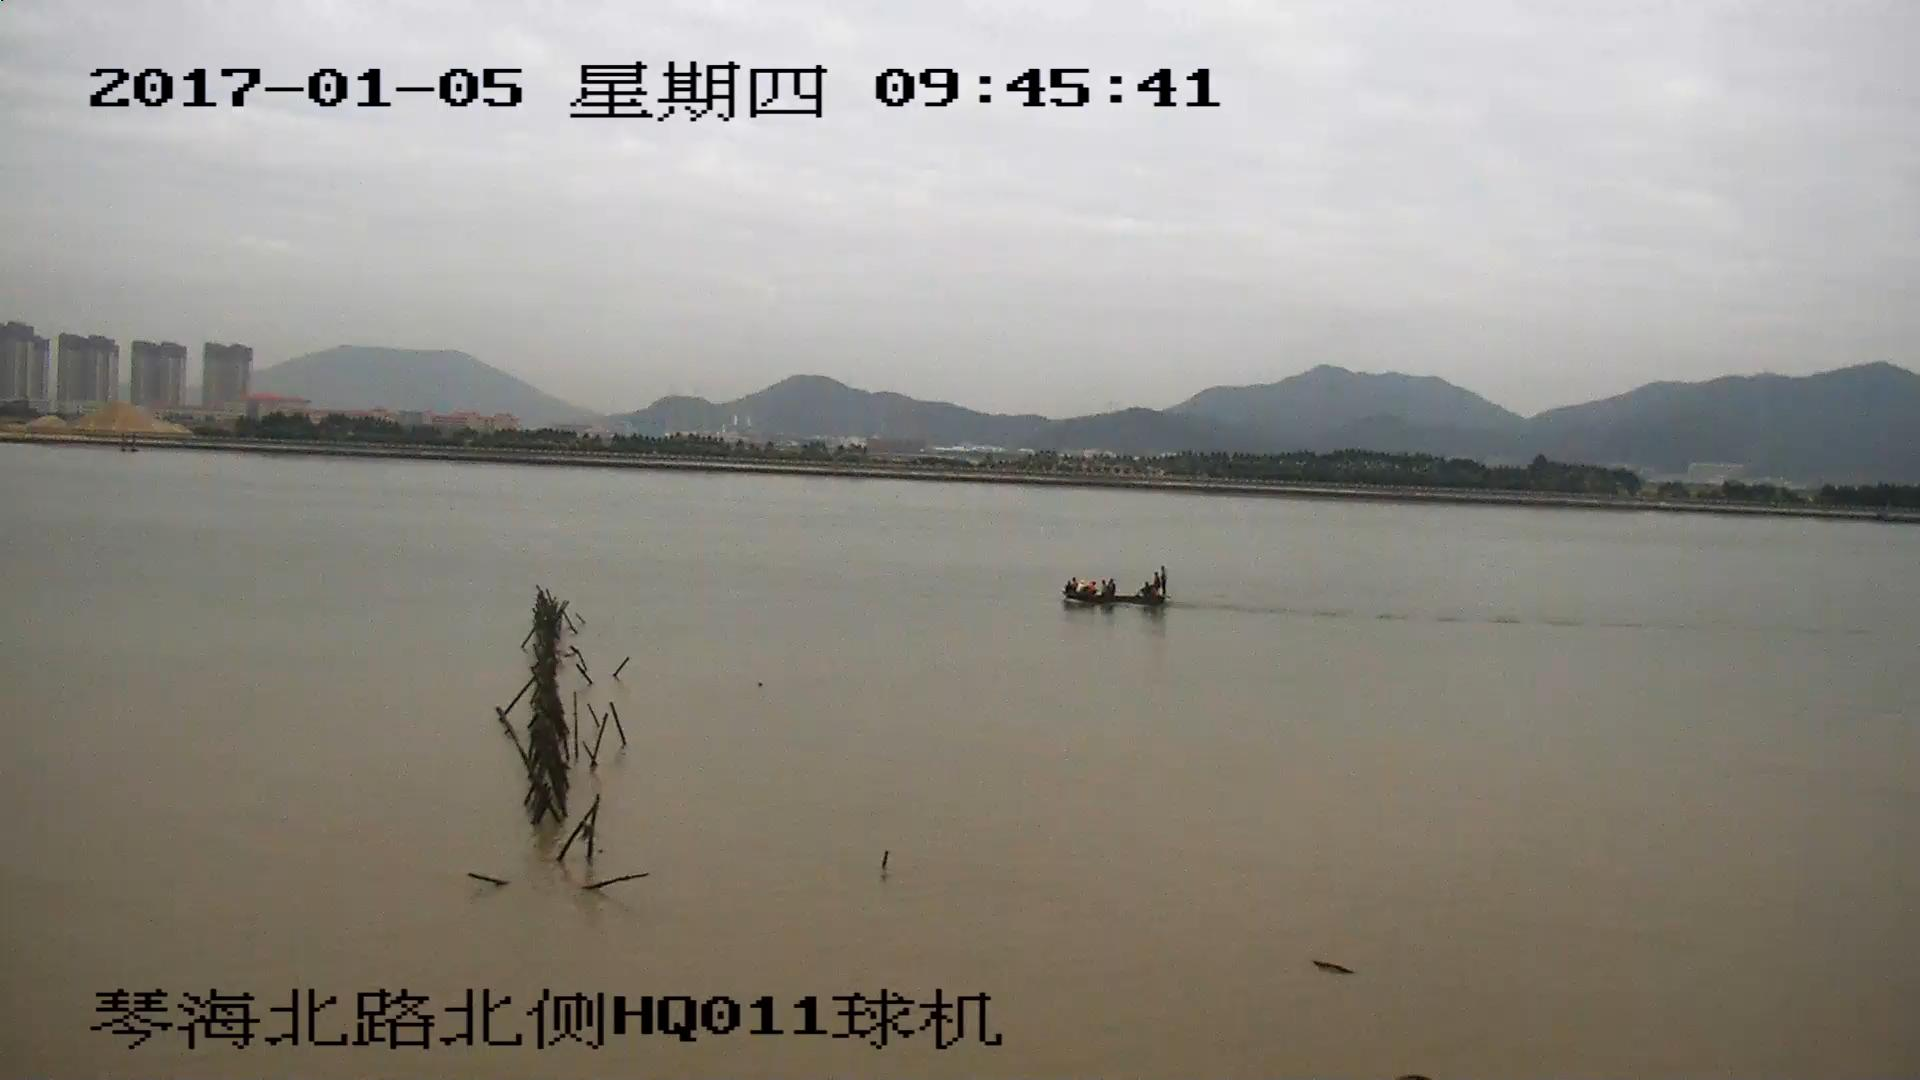fishing boat: (1066, 569, 1170, 605)
